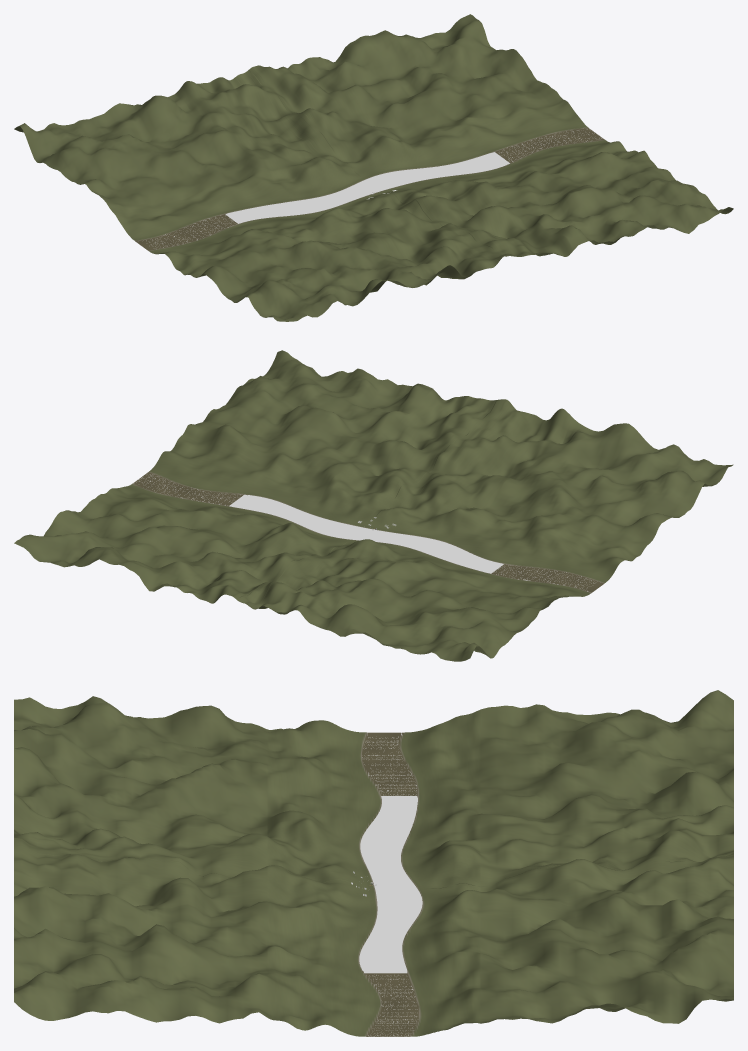
Rendered from xiangjiang.glb.
3 views of the same model, one above another, from view 1: azimuth 30°, elevation 25°; view 2: azimuth 150°, elevation 25°; view 3: azimuth 270°, elevation 25° (orthographic). The views are drawn at different scales.
Parts seen in each view (by area): view 1: Continuous terrain, River surface; view 2: Continuous terrain, River surface; view 3: Continuous terrain, River surface.
Part boxes in pixels (<box>): Continuous terrain: <box>14,14,733,321</box>; River surface: <box>146,128,601,247</box>; Continuous terrain: <box>14,350,733,661</box>; River surface: <box>133,474,594,591</box>; Continuous terrain: <box>14,690,733,1036</box>; River surface: <box>359,732,422,1036</box>.
Bounding box in the file's own units: 1776 × 152 × 1776.
26 materials, 8 textured.
